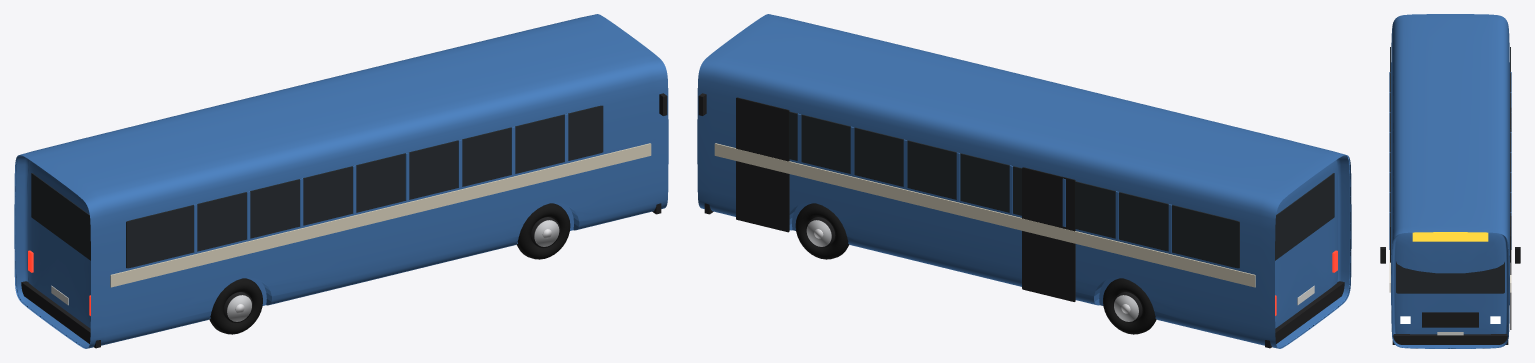
The model's file is fleet_bus.glb.
3 views of the same model, side by side, from view 1: azimuth 30°, elevation 25°; view 2: azimuth 150°, elevation 25°; view 3: azimuth 270°, elevation 25° (orthographic). The views are drawn at different scales.
Parts seen in each view (by area): view 1: Body, Glass, Cap.001, Cap.003; view 2: Body, Glass, Cap, Cap.002; view 3: Body, Glass, Headlight.
Part boxes in pixels (x1=…): Body: x1=14, y1=14, x2=668, y2=348; Glass: x1=126, y1=105, x2=603, y2=268; Cap.001: x1=516, y1=203, x2=570, y2=259; Cap.003: x1=209, y1=278, x2=262, y2=334; Body: x1=697, y1=14, x2=1351, y2=348; Glass: x1=789, y1=111, x2=1239, y2=268; Cap: x1=795, y1=203, x2=849, y2=259; Cap.002: x1=1103, y1=278, x2=1156, y2=334; Body: x1=1380, y1=14, x2=1520, y2=348; Glass: x1=1390, y1=47, x2=1510, y2=293; Headlight: x1=1400, y1=316, x2=1500, y2=323.
Size of the model in its own units: 10.9 by 3.1 by 2.96.
